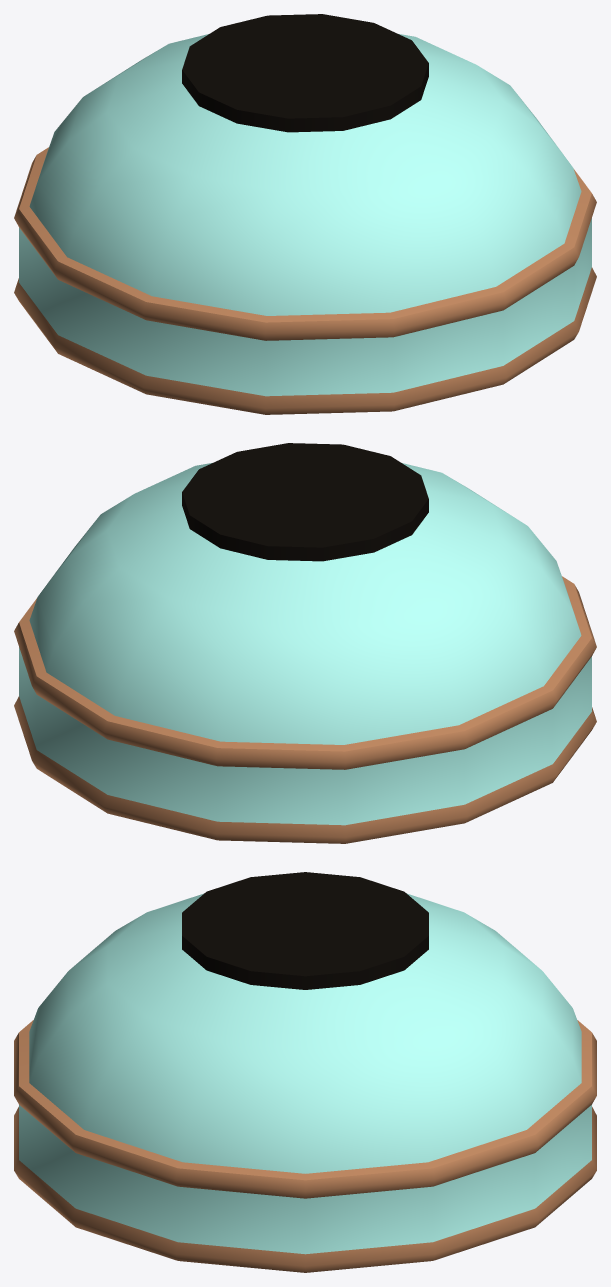
File: 121_tunic_glass_cabinet_top.glb
3 renders of one model, top to bottom at view 1: azimuth 30°, elevation 25°; view 2: azimuth 150°, elevation 25°; view 3: azimuth 270°, elevation 25°, orthographic.
Visible parts, largest first — view 1: base; view 2: base; view 3: base.
Part boxes in pixels (x1=…): base: x1=14, y1=14, x2=596, y2=414; base: x1=14, y1=443, x2=596, y2=843; base: x1=14, y1=872, x2=596, y2=1272.
Bounding box in the file's own units: 1.47 × 0.6339 × 1.47.
